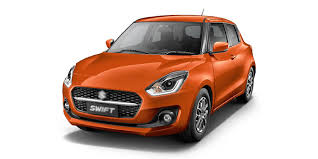Swift: (60, 9, 257, 142)
